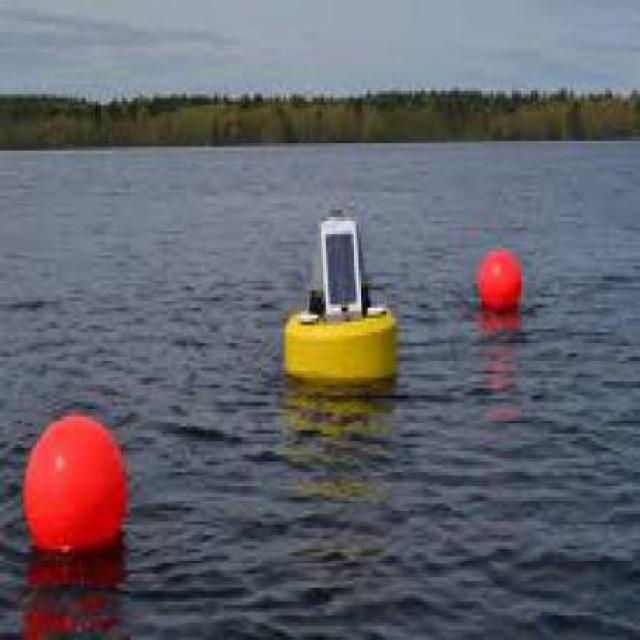buoy: (279, 194, 408, 397)
